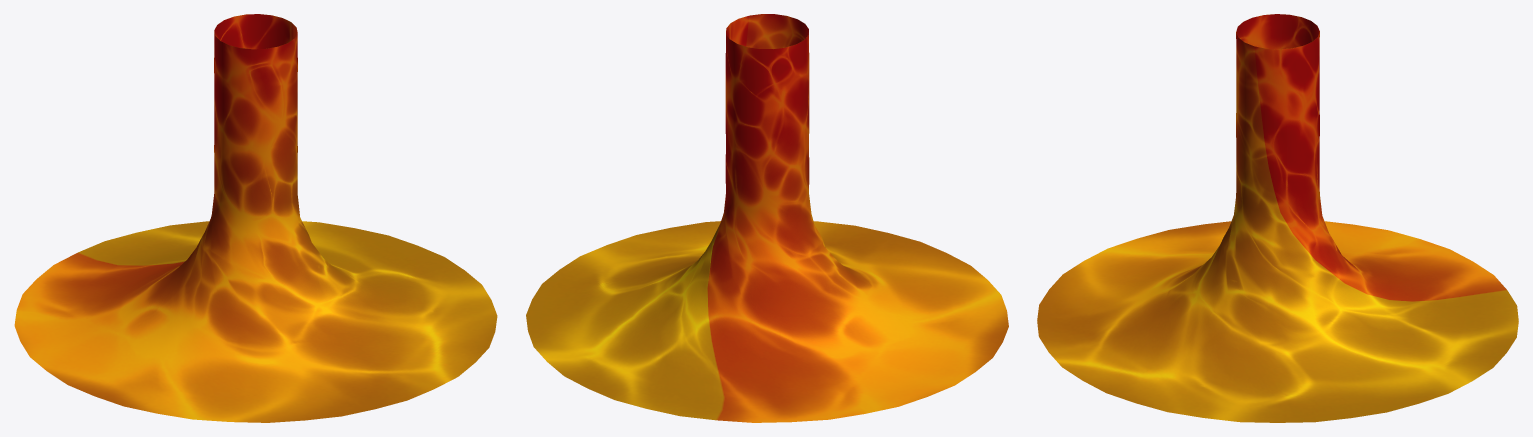
File: VFX_Sworl.fbx
The picture shows the model from 3 angles, left to right: view 1: azimuth 30°, elevation 25°; view 2: azimuth 150°, elevation 25°; view 3: azimuth 270°, elevation 25°; orthographic projection.
Parts seen in each view (by area): view 1: Sworl; view 2: Sworl; view 3: Sworl.
Boxes of the visible parts, x1,y1,x2,y2 form: Sworl: [14, 14, 497, 422]; Sworl: [526, 14, 1008, 422]; Sworl: [1037, 14, 1518, 422].
Size of the model in its own units: 237 by 157 by 237.
